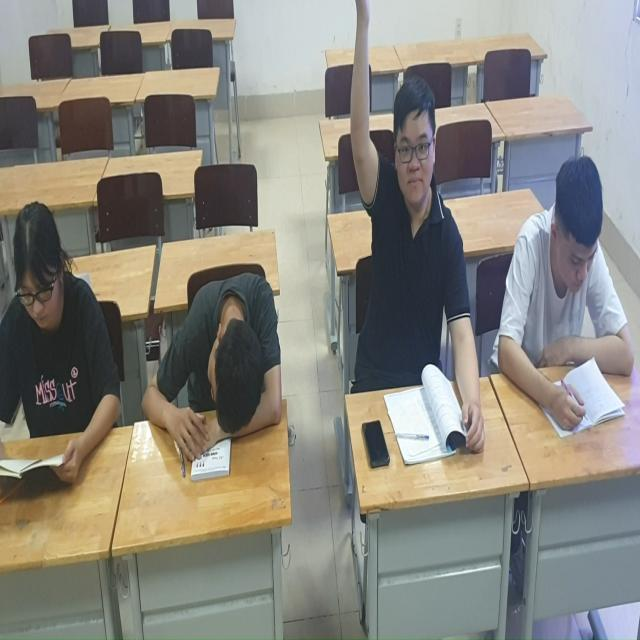raise_hand: (324, 1, 486, 455)
read: (1, 160, 127, 507), (496, 116, 634, 427)
sleep: (139, 232, 283, 473)
